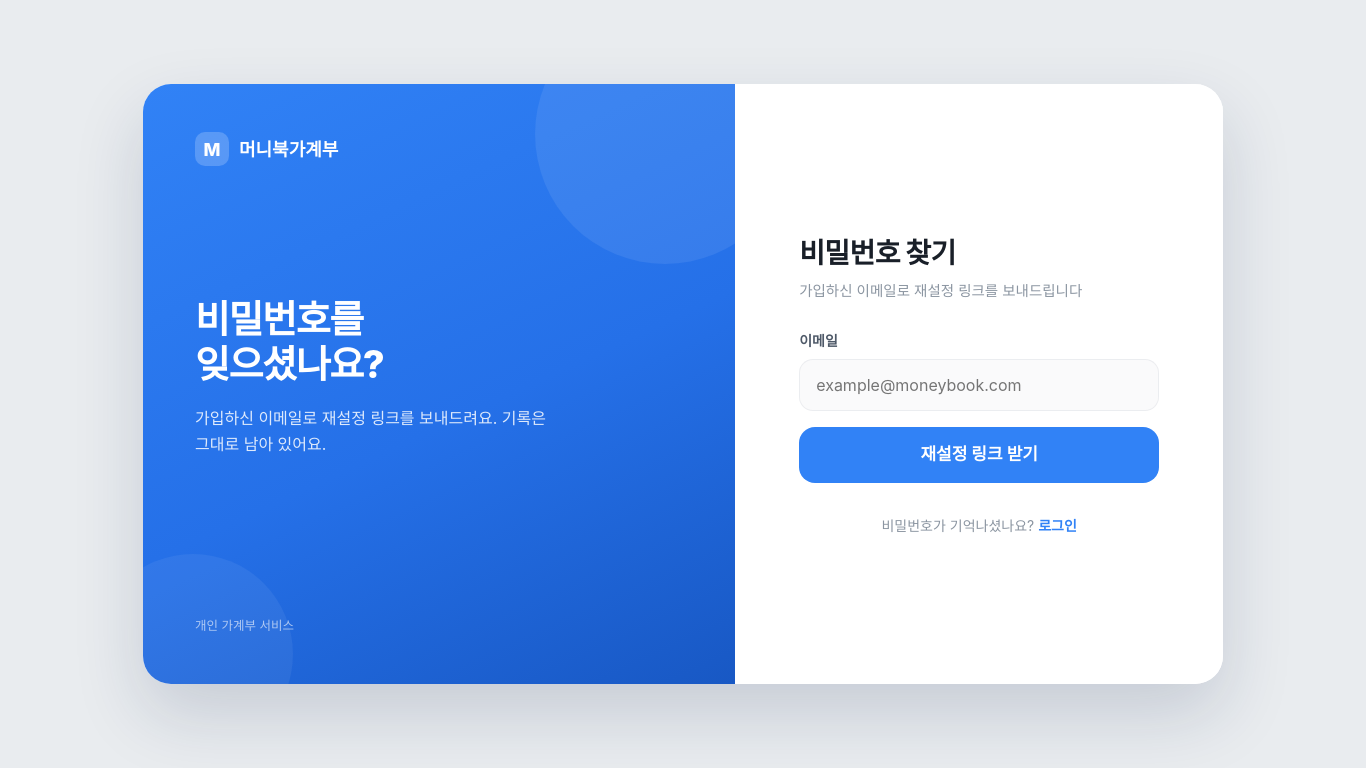
Test: ForgotPasswordPage › keeps the resend button disabled during the cooldown
Type "hong@example.com" into the field labelled "이메일" at (979,385), box [799,359,1159,411]
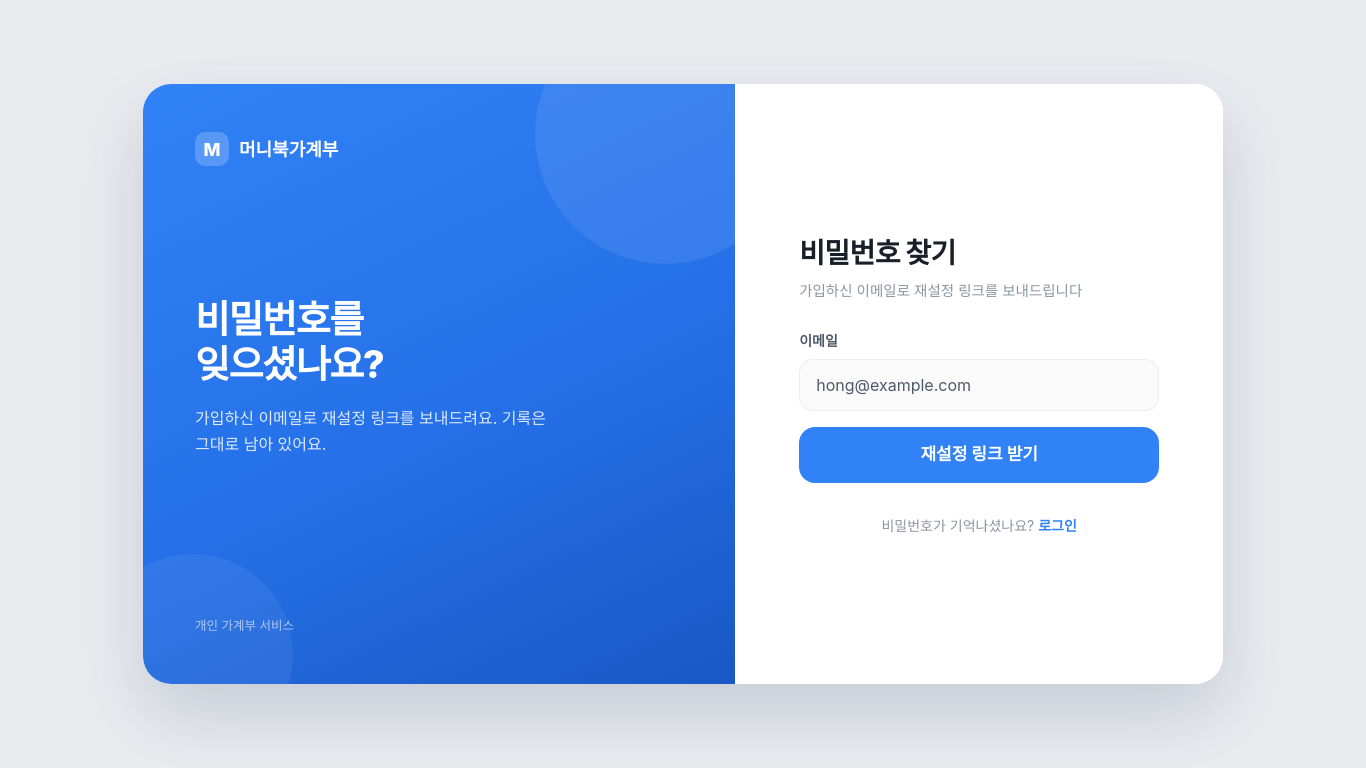
Click the button "재설정 링크 받기" at (979,455), box [799,427,1159,483]
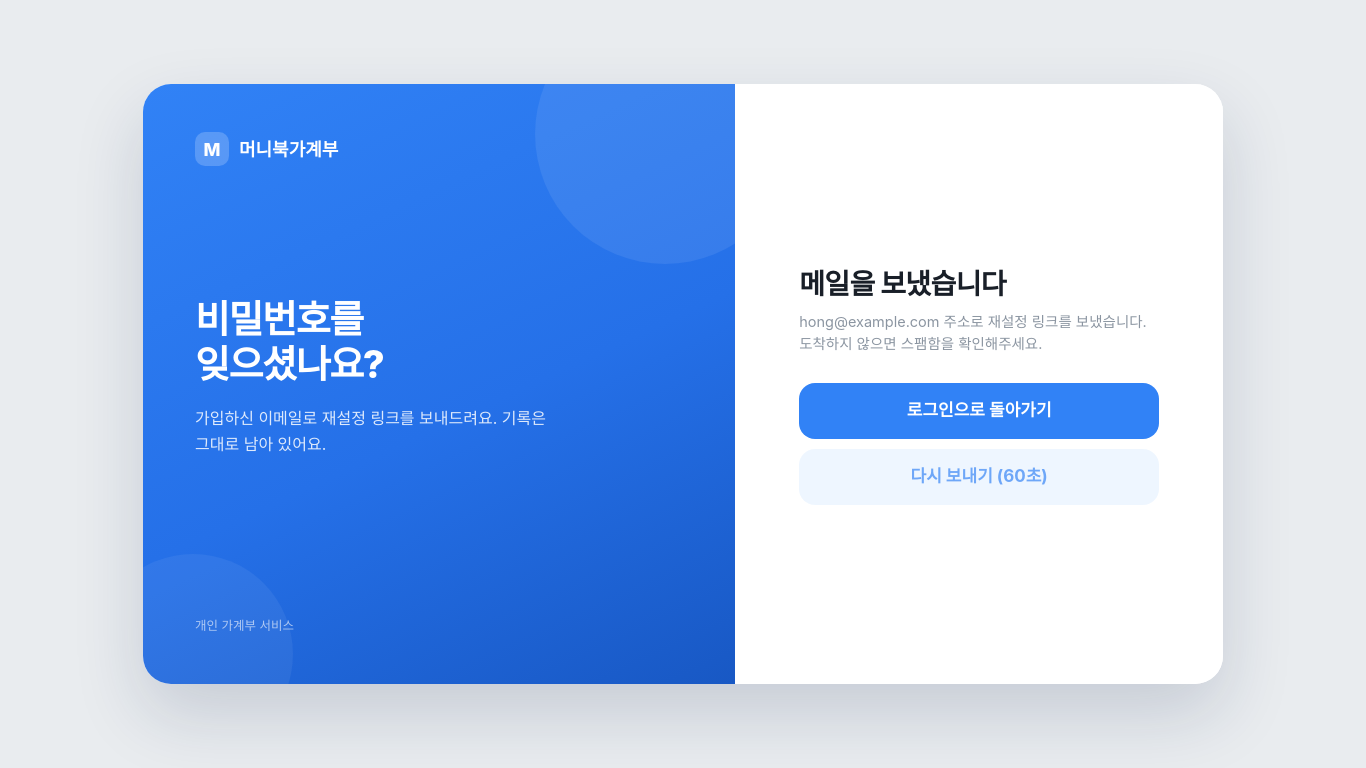
Result: the button "다시 보내기 (60초)" is disabled at [799,449,1159,505]
